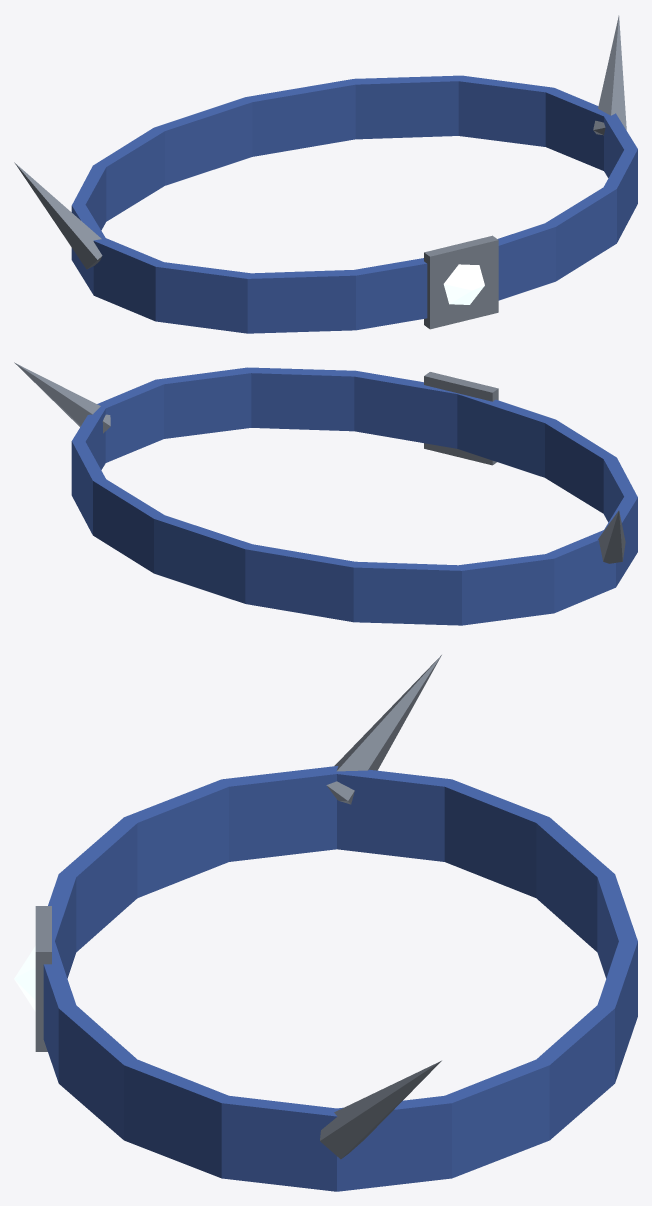
The model's file is armor_guard_head_rare_orc.glb.
3 renders of one model, top to bottom at view 1: azimuth 30°, elevation 25°; view 2: azimuth 150°, elevation 25°; view 3: azimuth 270°, elevation 25°, orthographic. The views are drawn at different scales.
Parts seen in each view (by area): view 1: armor_guard_head_rare_orc__head; view 2: armor_guard_head_rare_orc__head; view 3: armor_guard_head_rare_orc__head.
Boxes of the visible parts, left/top/right/bottom form: armor_guard_head_rare_orc__head: left=14, top=15, right=637, bottom=333; armor_guard_head_rare_orc__head: left=14, top=362, right=637, bottom=625; armor_guard_head_rare_orc__head: left=14, top=655, right=637, bottom=1191.
Bounding box in the file's own units: 70.56 × 13.9 × 45.81.
